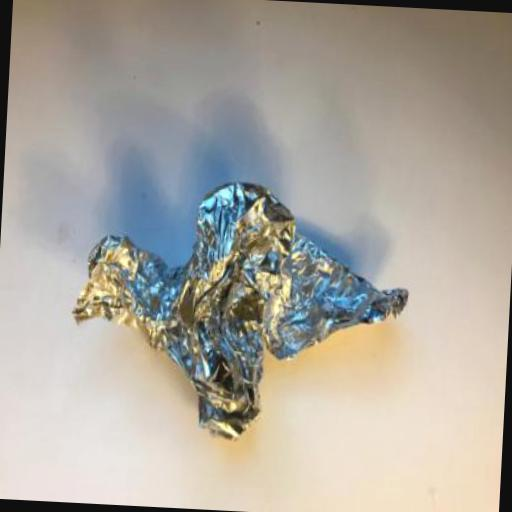metal: (66, 171, 412, 450)
